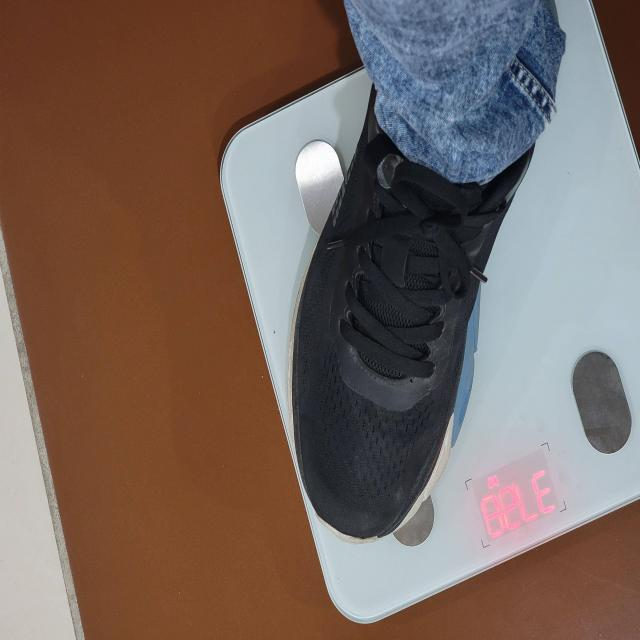ws: (308, 29, 640, 625)
